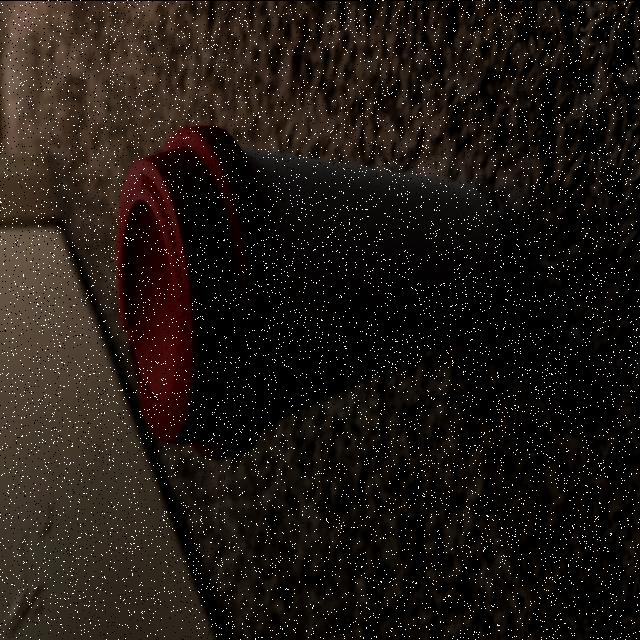mug: (118, 126, 510, 460)
